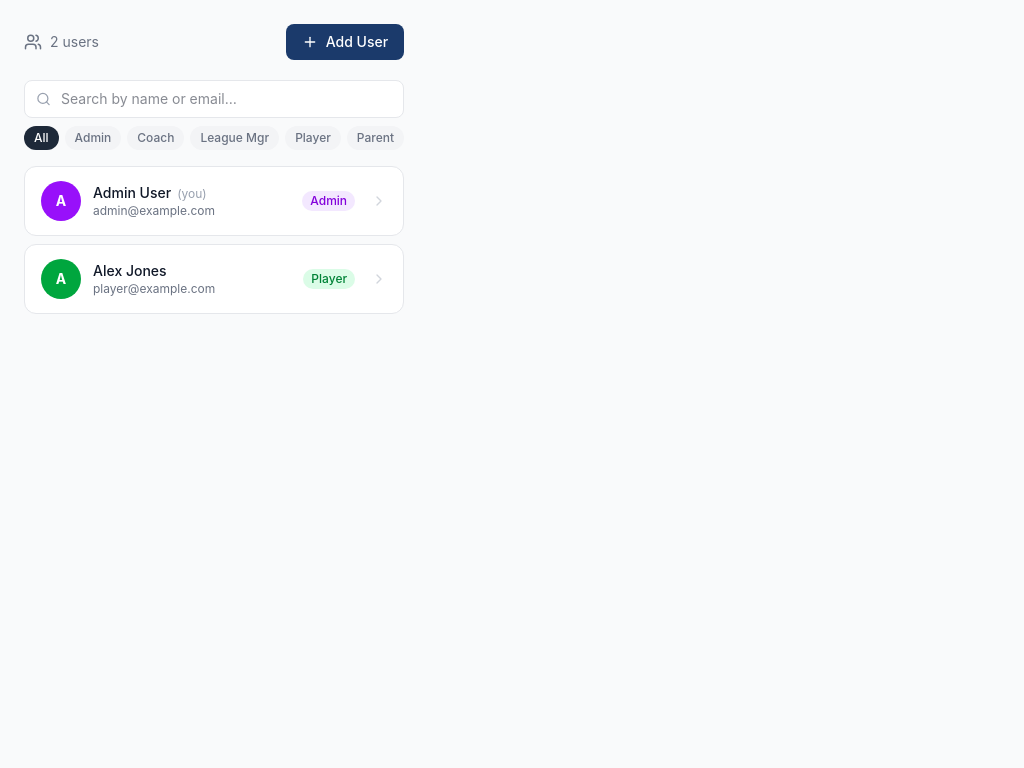
it: UsersPage — reset password button › opens the confirmation dialog when the reset button is clicked
Expected: the text "Alex Jones" is shown, [93,262,167,279]
Click the button "A Alex Jones player@example.com Player": (214,279) [24,244,404,314]
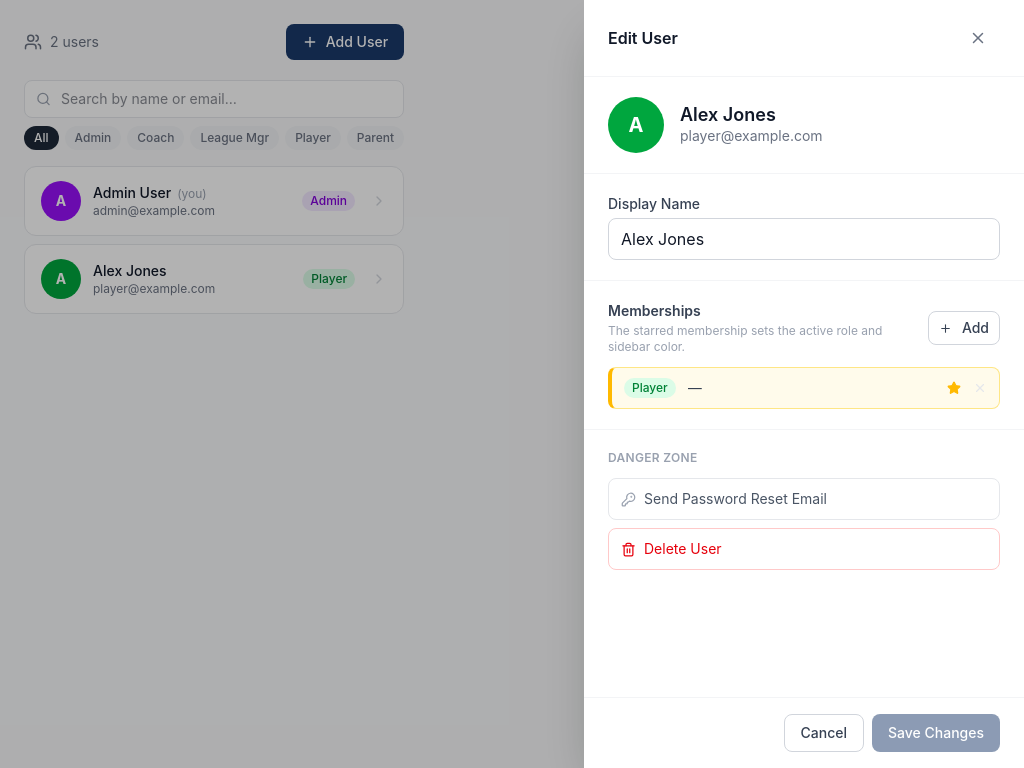
Click the button "Send Password Reset Email": (804,499) [608,478,1000,520]
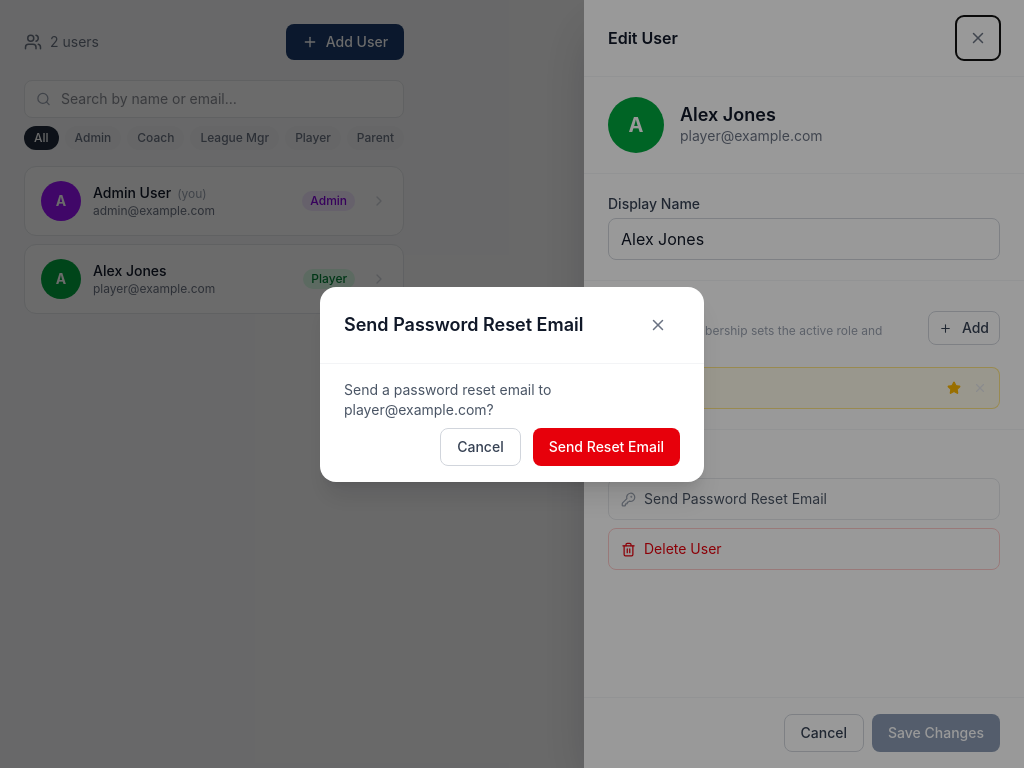
Expected: the text "Send a password reset email to player@example.com?" is shown, [344,380,551,418]
